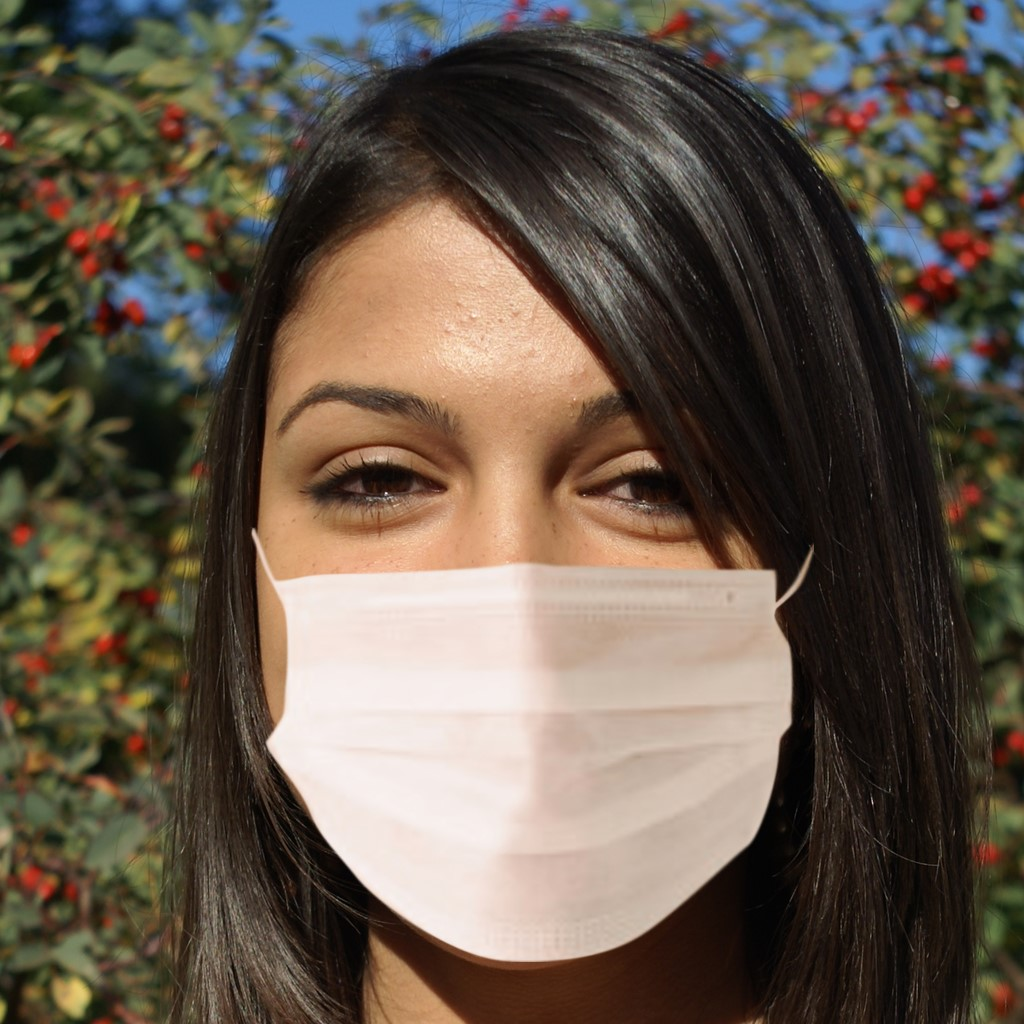con_mascara: (252, 204, 842, 954)
